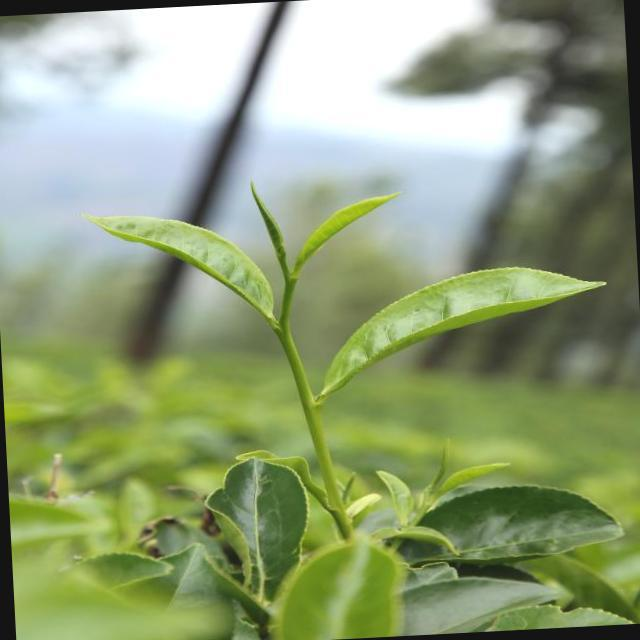Stem: (276, 323, 288, 333)
